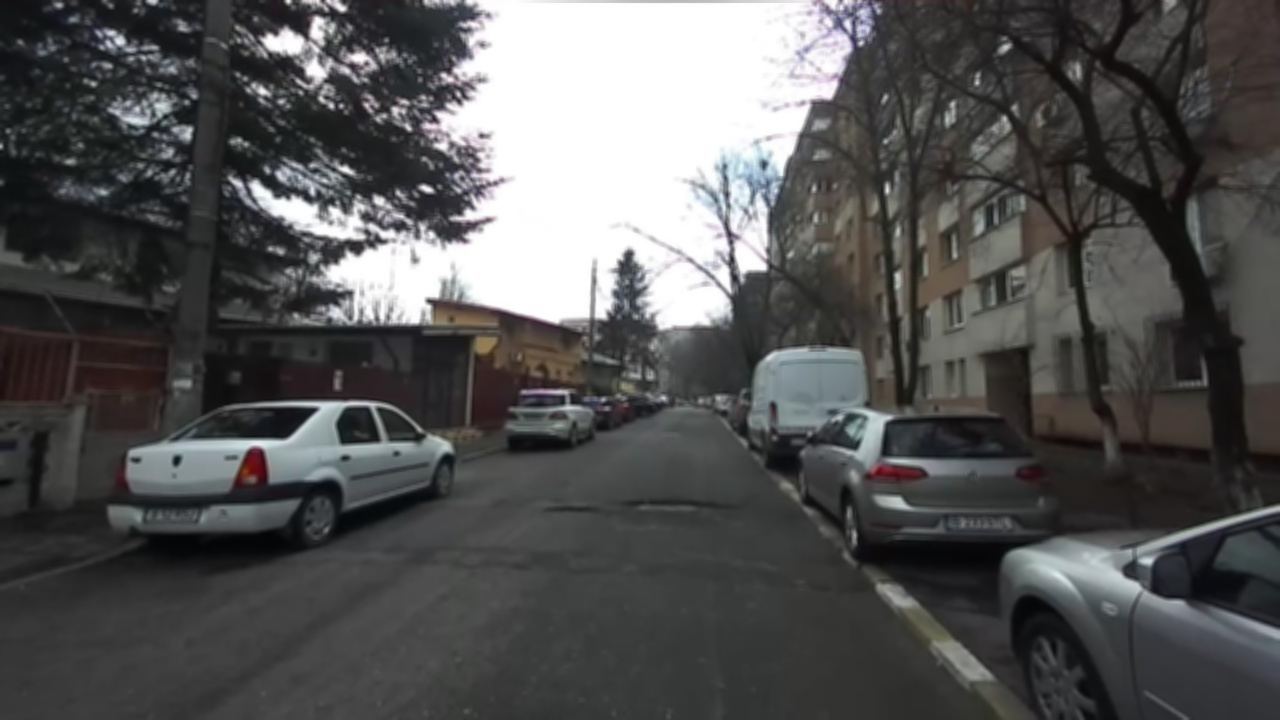pothole: (616, 496, 735, 518), (540, 503, 603, 514)
